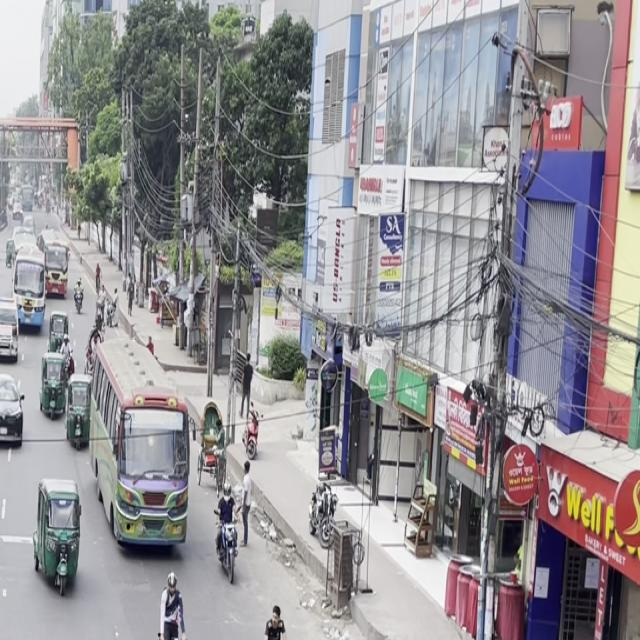bicycle: (154, 567, 190, 640), (256, 624, 290, 640)
bus: (89, 330, 193, 550), (11, 243, 48, 331), (36, 220, 73, 301)
car: (306, 626, 472, 640), (0, 369, 27, 454), (0, 314, 23, 367)
motorbike: (211, 481, 240, 585)
rickshaw: (29, 472, 88, 600), (38, 349, 70, 425), (63, 374, 93, 451)
